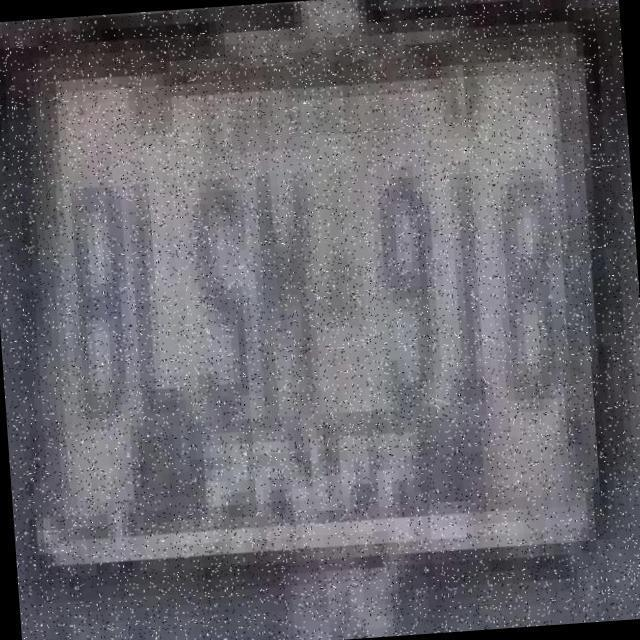License Plate: (5, 13, 627, 617)
